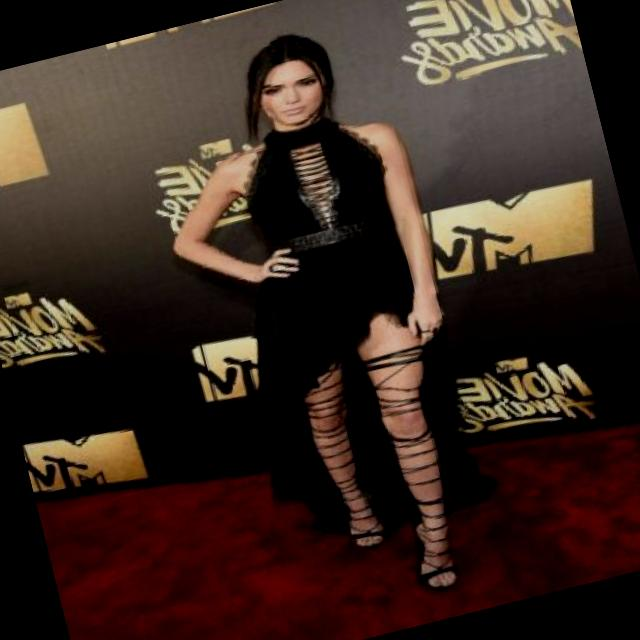Person: (138, 0, 559, 640)
